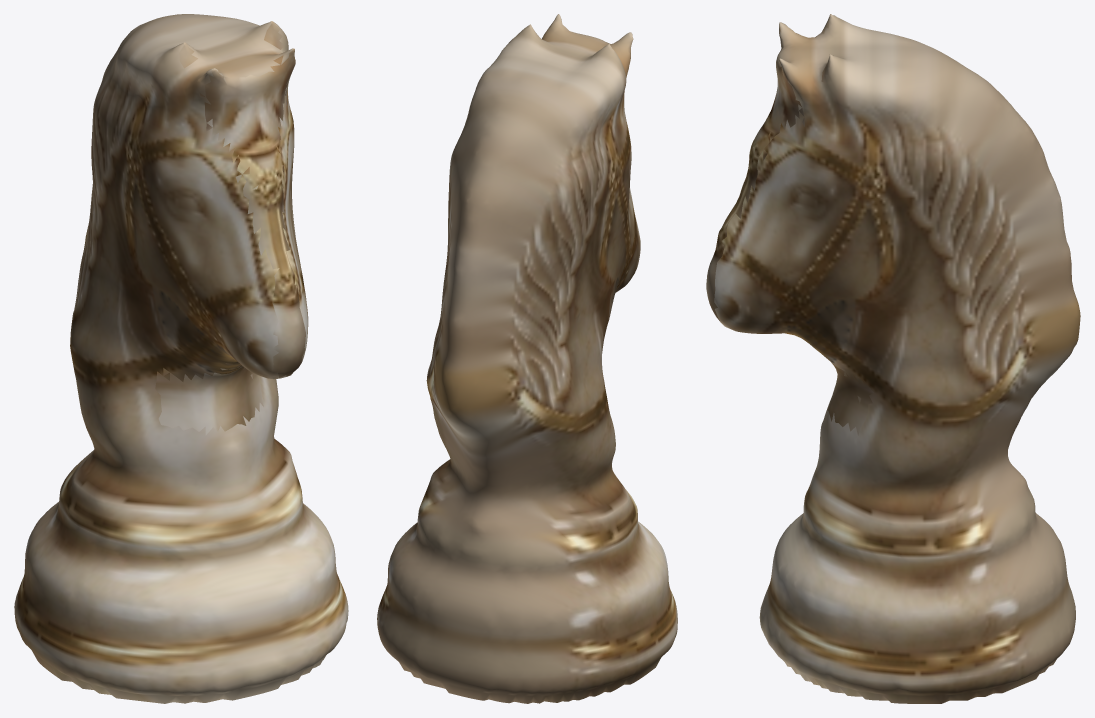
File: knight-classic-cavallo-before.glb
3 renders of one model, left to right at view 1: azimuth 30°, elevation 25°; view 2: azimuth 150°, elevation 25°; view 3: azimuth 270°, elevation 25°, orthographic. The views are drawn at different scales.
Parts seen in each view (by area): view 1: knight-classic-cavallo; view 2: knight-classic-cavallo; view 3: knight-classic-cavallo.
Boxes of the visible parts, left/top/right/bottom form: knight-classic-cavallo: left=14, top=14, right=348, bottom=703; knight-classic-cavallo: left=377, top=14, right=677, bottom=703; knight-classic-cavallo: left=706, top=14, right=1080, bottom=703.
Bounding box in the file's own units: 0.6341 × 1.35 × 0.75.
1 material, 1 textured.
